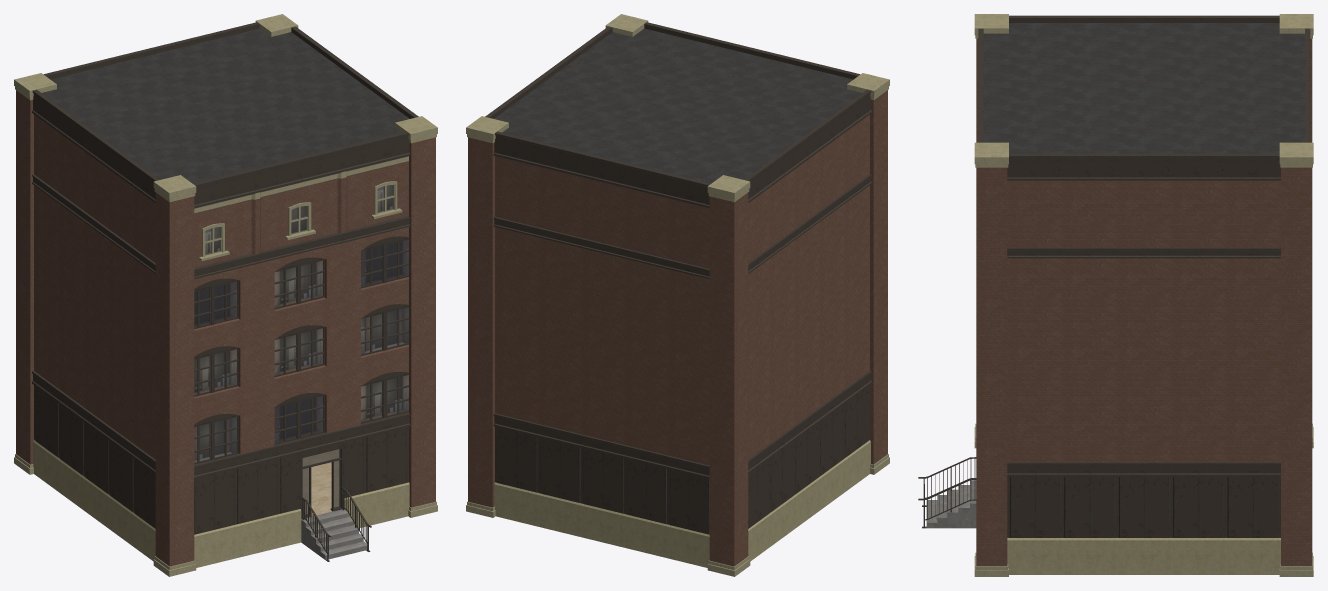
Rendered from city_building_1.glb.
The picture shows the model from 3 angles, left to right: view 1: azimuth 30°, elevation 25°; view 2: azimuth 150°, elevation 25°; view 3: azimuth 270°, elevation 25°; orthographic projection. The views are drawn at different scales.
Visible parts, largest first — view 1: Building_Small_1; view 2: Building_Small_1; view 3: Building_Small_1.
Part boxes in pixels (x1,y1,x2,y2): Building_Small_1: [14, 14, 437, 576]; Building_Small_1: [466, 14, 889, 576]; Building_Small_1: [918, 14, 1313, 576].
Size of the model in its own units: 12.46 by 17.03 by 14.54.
13 materials, 12 textured.
